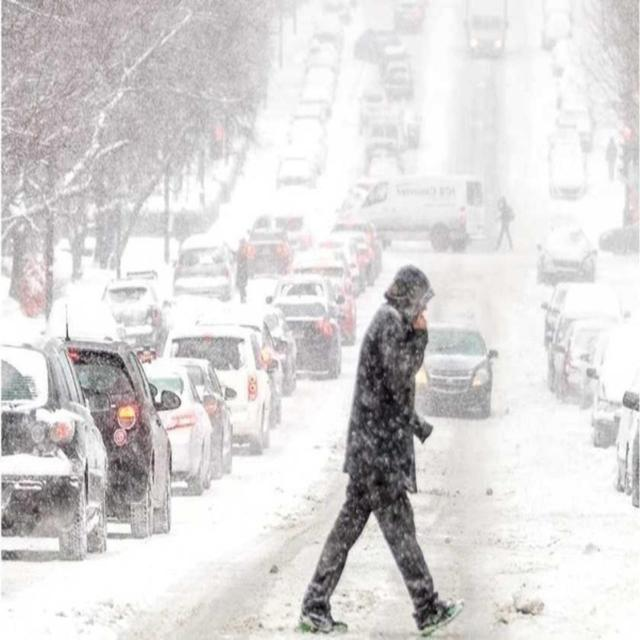Car: (0, 343, 116, 569), (167, 318, 280, 452), (143, 358, 225, 489), (270, 277, 345, 378), (416, 324, 496, 418), (588, 318, 640, 446), (4, 237, 85, 311), (101, 272, 171, 354), (44, 284, 126, 352), (173, 233, 237, 301), (535, 222, 597, 284), (292, 247, 352, 310), (326, 221, 382, 285), (238, 218, 294, 276), (613, 382, 640, 502), (546, 135, 588, 202), (361, 106, 409, 158), (464, 6, 508, 58), (541, 283, 572, 348), (555, 102, 591, 151), (300, 66, 336, 110), (354, 27, 399, 62), (271, 212, 311, 250), (276, 151, 314, 190), (383, 54, 415, 100), (600, 220, 640, 255), (359, 83, 389, 125), (364, 152, 402, 184), (308, 40, 340, 76), (395, 0, 427, 33), (312, 24, 342, 56)
Van: (350, 173, 486, 251)
